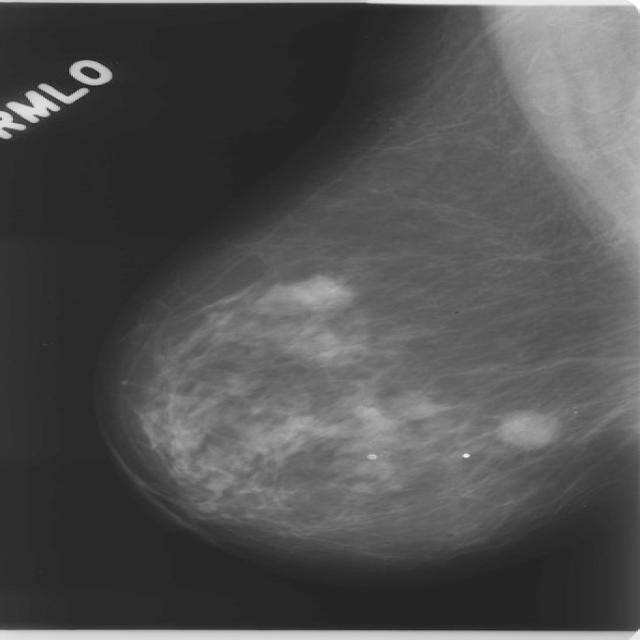tumour: (494, 407, 556, 450)
